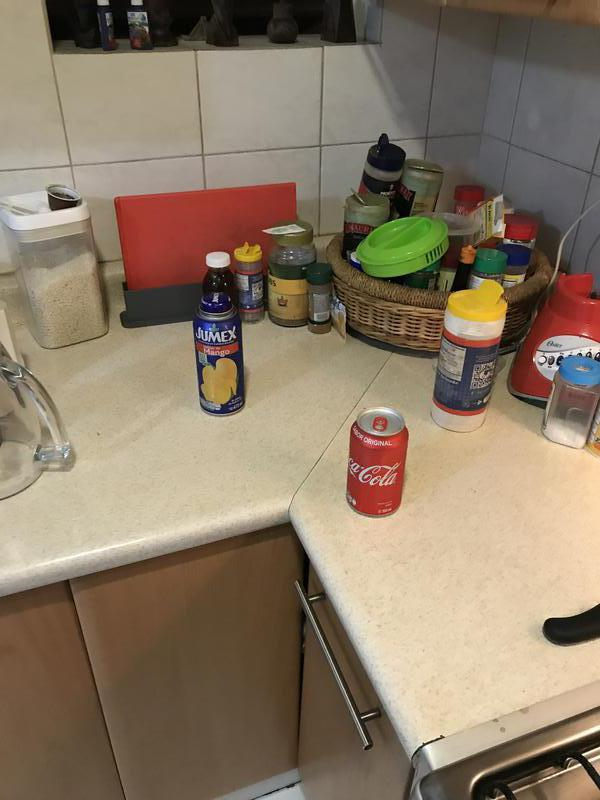coca_cola: (345, 408, 407, 520)
jugo_jumex: (190, 292, 246, 418)
